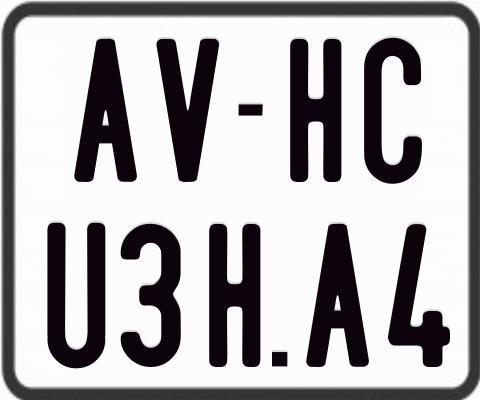3: (120, 223, 186, 367)
4: (388, 222, 454, 366)
A: (74, 39, 139, 185), (304, 223, 370, 366)
C: (364, 37, 422, 185)
H: (208, 224, 261, 369), (287, 38, 339, 183)
U: (45, 220, 105, 365)
V: (157, 36, 223, 181)
